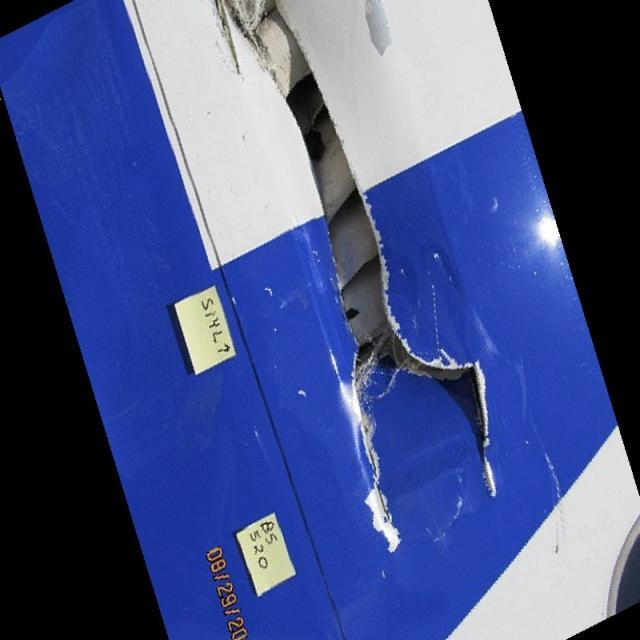crack: (354, 420, 414, 533)
